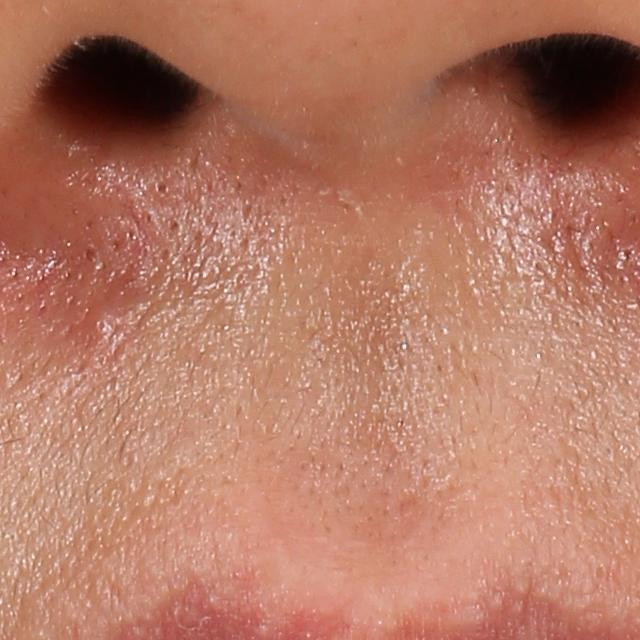comedo: (77, 239, 106, 271), (150, 174, 172, 200)
